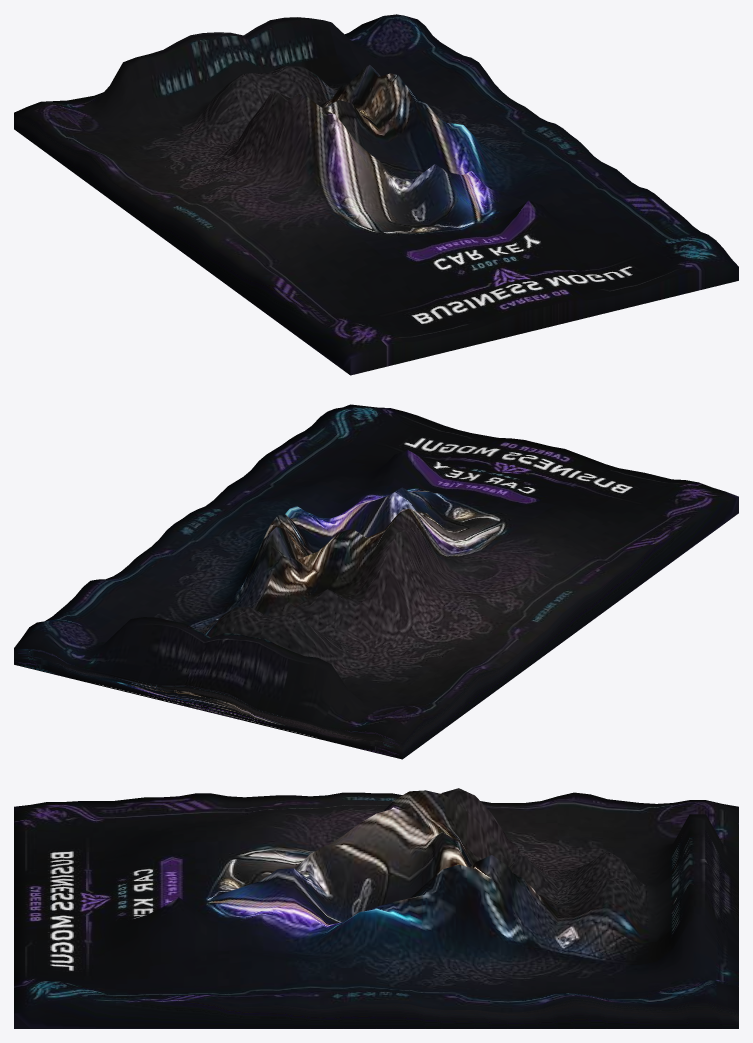
The model's file is CAREER_08_Tool_06_Car_Key.glb.
The picture shows the model from 3 angles, top to bottom: view 1: azimuth 30°, elevation 25°; view 2: azimuth 150°, elevation 25°; view 3: azimuth 270°, elevation 25°; orthographic projection. The views are drawn at different scales.
Parts seen in each view (by area): view 1: CAREER_08_Tool_06_Car_Key; view 2: CAREER_08_Tool_06_Car_Key; view 3: CAREER_08_Tool_06_Car_Key.
Boxes of the visible parts, x1,y1,x2,y2 form: CAREER_08_Tool_06_Car_Key: (14,14,738,375); CAREER_08_Tool_06_Car_Key: (14,404,738,759); CAREER_08_Tool_06_Car_Key: (14,788,738,1028).
Size of the model in its own units: 2 by 0.51 by 3.
1 material, 1 textured.
